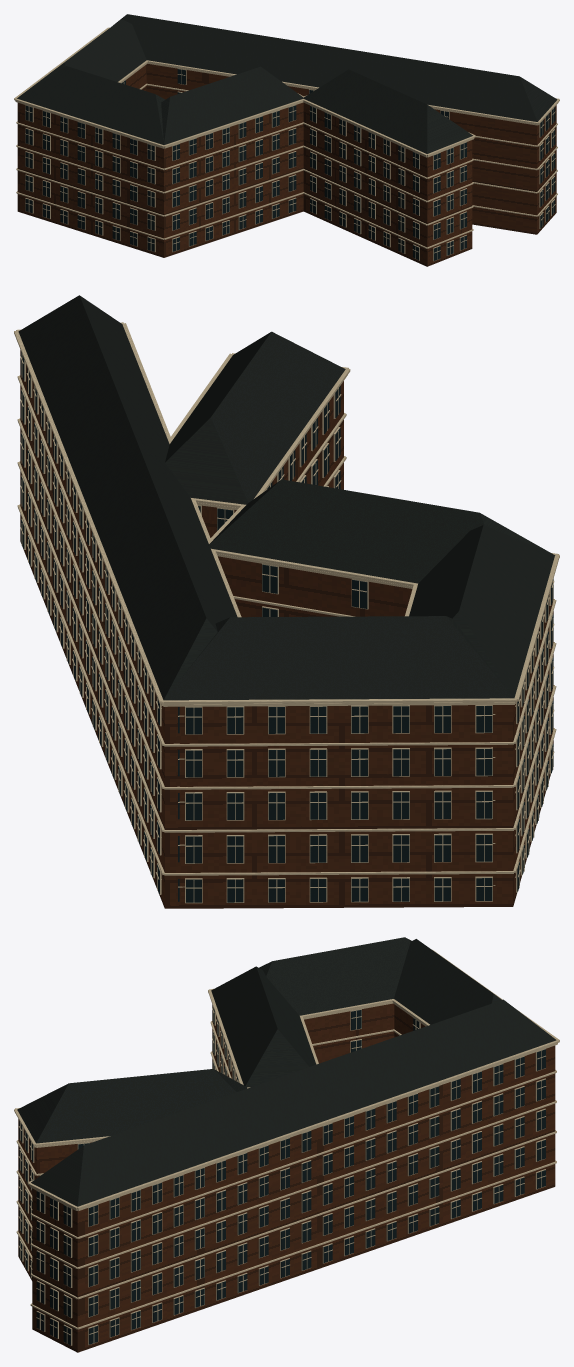
3 views of the same model, one above another, from view 1: azimuth 30°, elevation 25°; view 2: azimuth 150°, elevation 25°; view 3: azimuth 270°, elevation 25° (orthographic). The views are drawn at different scales.
Visible parts, largest first — view 1: politie-haagseveer-0, politie-haagseveer-1, politie-haagseveer-2, politie-haagseveer-3; view 2: politie-haagseveer-1, politie-haagseveer-0, politie-haagseveer-2, politie-haagseveer-3; view 3: politie-haagseveer-1, politie-haagseveer-0, politie-haagseveer-2, politie-haagseveer-3.
Boxes of the visible parts, left/top/right/bottom form: politie-haagseveer-0: left=17, top=64, right=556, bottom=266; politie-haagseveer-1: left=17, top=14, right=557, bottom=153; politie-haagseveer-2: left=14, top=27, right=559, bottom=261; politie-haagseveer-3: left=25, top=69, right=555, bottom=260; politie-haagseveer-1: left=18, top=295, right=555, bottom=700; politie-haagseveer-0: left=20, top=350, right=553, bottom=908; politie-haagseveer-2: left=14, top=322, right=559, bottom=903; politie-haagseveer-3: left=21, top=351, right=553, bottom=902; politie-haagseveer-1: left=17, top=937, right=556, bottom=1206; politie-haagseveer-0: left=18, top=1003, right=555, bottom=1352; politie-haagseveer-2: left=14, top=949, right=559, bottom=1345; politie-haagseveer-3: left=19, top=1005, right=545, bottom=1345.
Size of the model in its own units: 83.68 by 28 by 74.65.
Materials: 4 (4 with a texture image).
